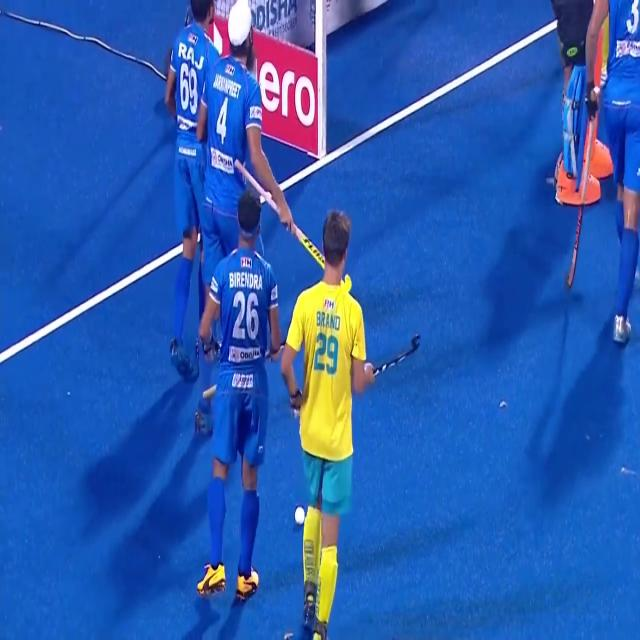ball: (287, 494, 312, 534)
